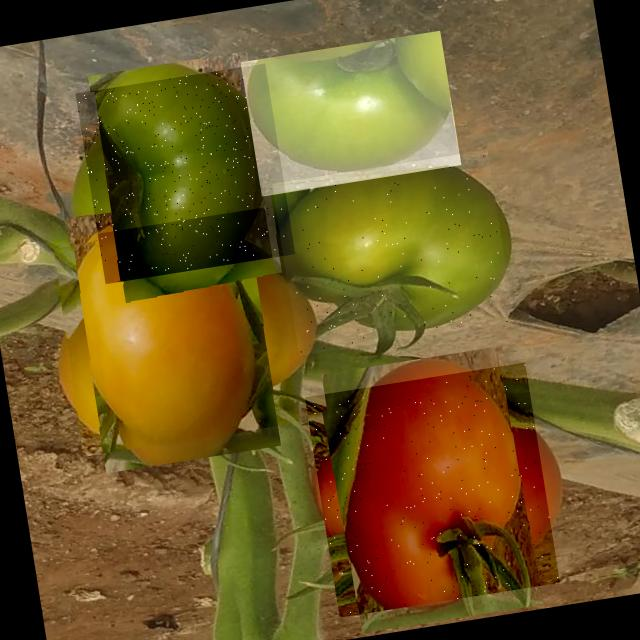Ripe Tomato: (305, 362, 560, 618)
Unripe Tomato: (49, 208, 298, 457), (272, 150, 515, 356), (76, 63, 296, 284), (240, 30, 462, 196)
